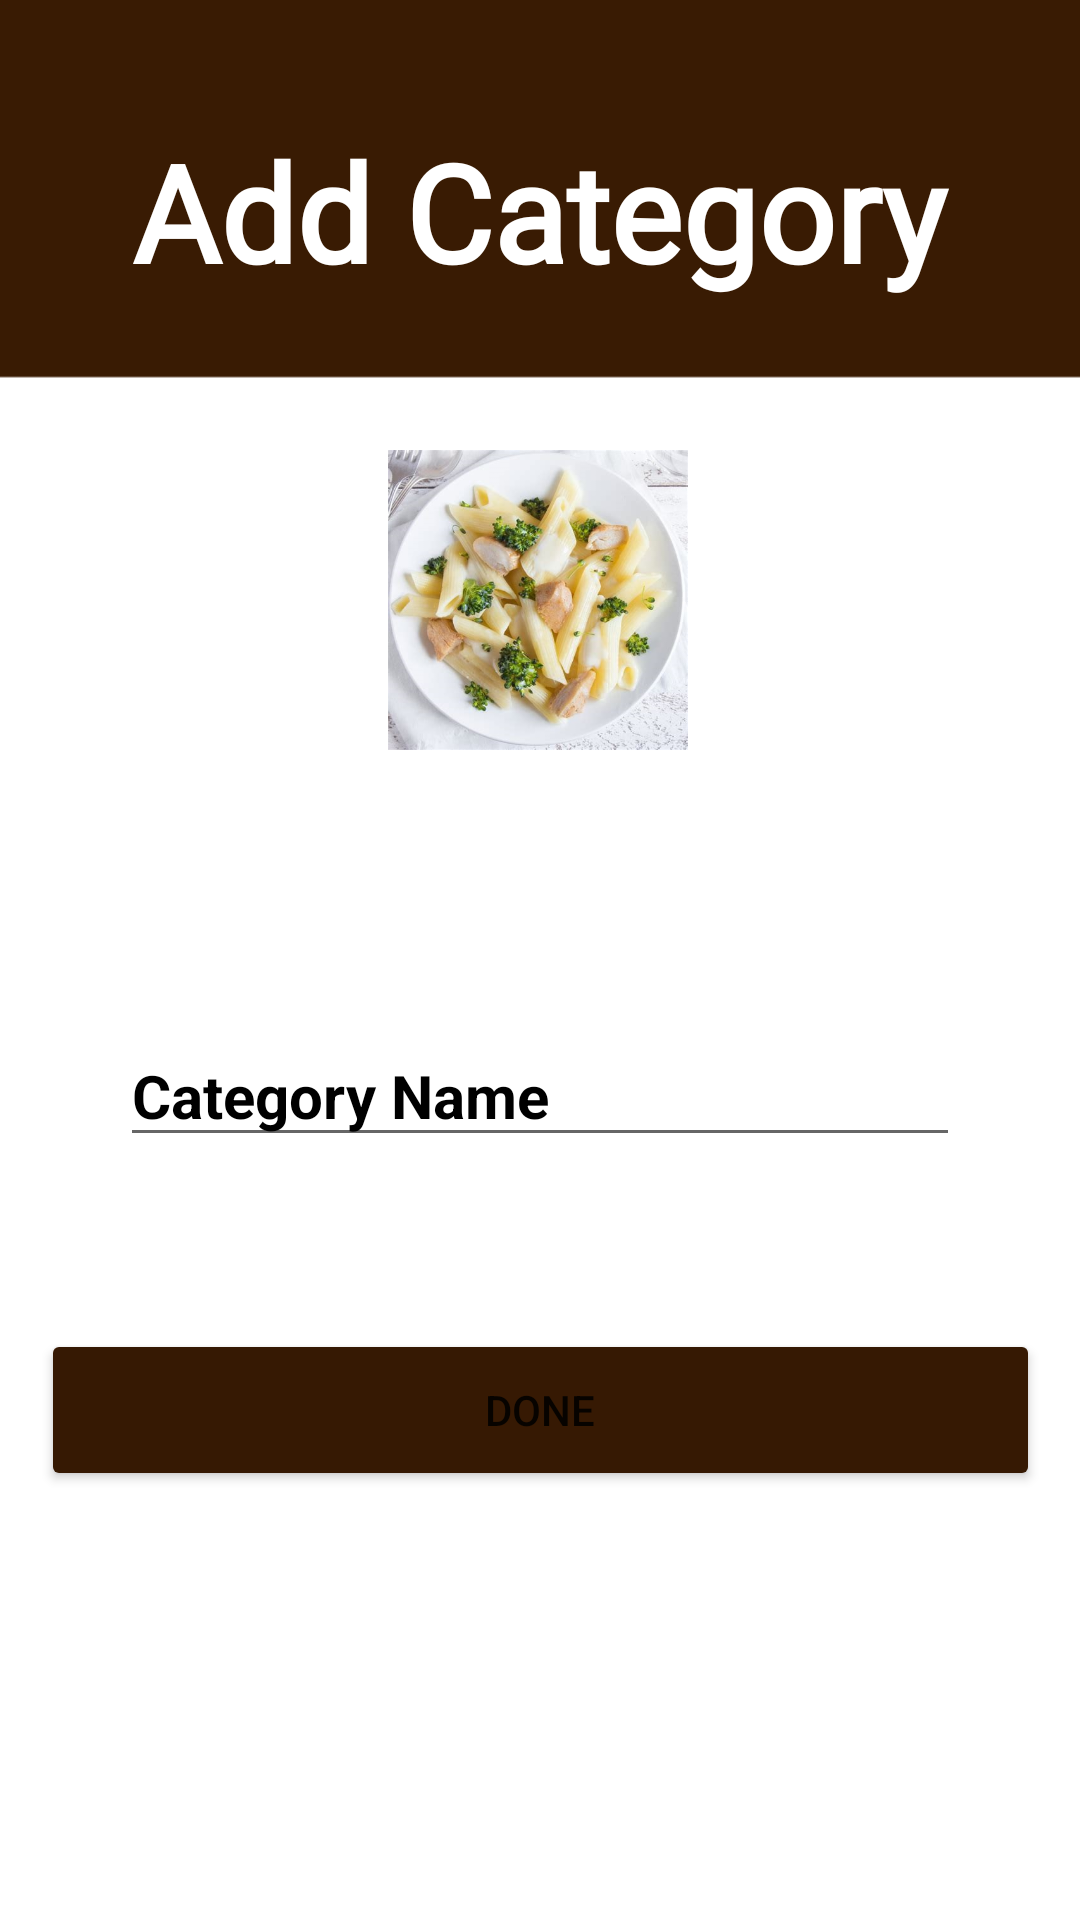

Point at icon controls on the screen. Image size 1080 × 1920, points as (x=x, y=y).
pasta: (x=538, y=600)
